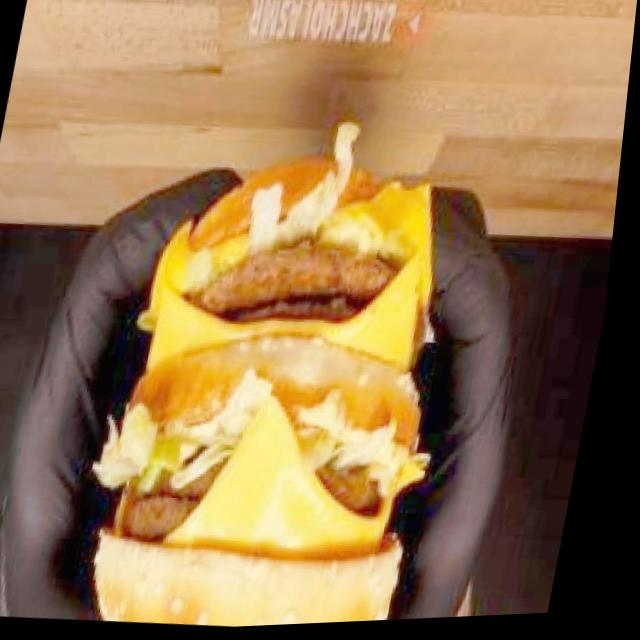burger: (67, 117, 492, 634)
